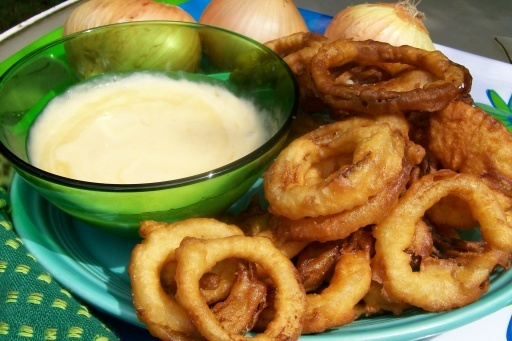background: (20, 0, 409, 182)
